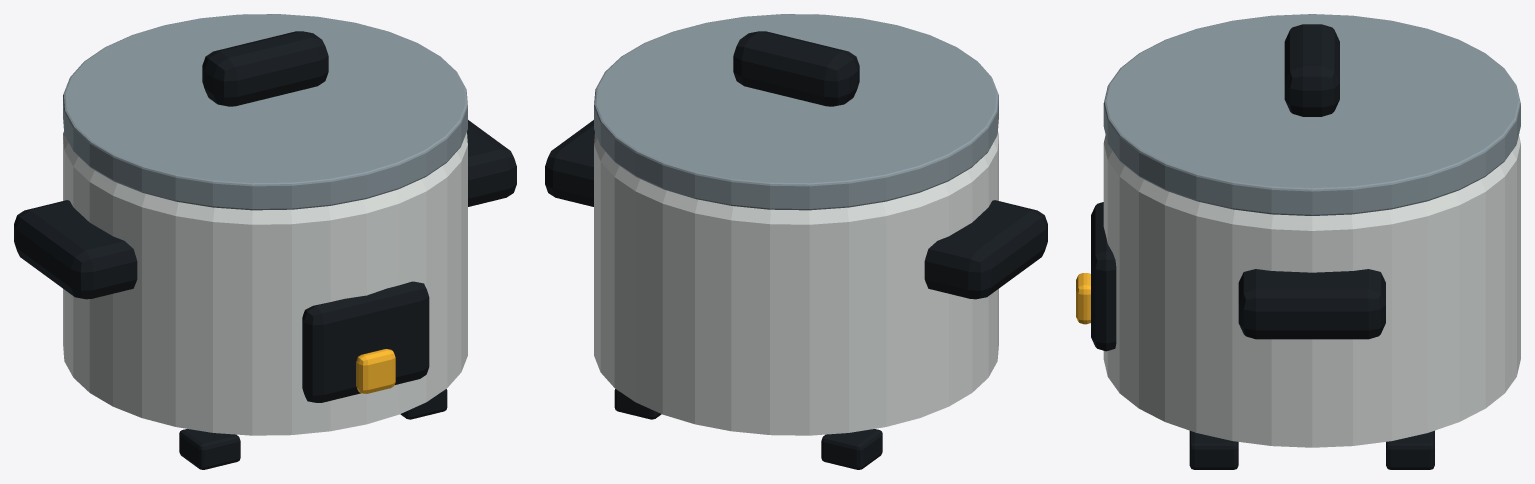
3 views of the same model, side by side, from view 1: azimuth 30°, elevation 25°; view 2: azimuth 150°, elevation 25°; view 3: azimuth 270°, elevation 25° (orthographic). The views are drawn at different scales.
Parts seen in each view (by area): view 1: BODY_Hollow, LID, CONTROL_Panel, SIDE_Handle, LID_Handle, SIDE_Handle.001, FOOT, CONTROL_Switch, FOOT.002; view 2: BODY_Hollow, LID, SIDE_Handle, LID_Handle, SIDE_Handle.001, FOOT.001, FOOT.003; view 3: BODY_Hollow, LID, SIDE_Handle.001, LID_Handle, CONTROL_Panel, FOOT.002, FOOT.003, CONTROL_Switch.
Boxes of the visible parts, bbox=[...] form: BODY_Hollow: bbox=[63, 132, 467, 435]; LID: bbox=[63, 14, 467, 210]; CONTROL_Panel: bbox=[302, 281, 429, 402]; SIDE_Handle: bbox=[14, 200, 137, 299]; LID_Handle: bbox=[202, 31, 328, 106]; SIDE_Handle.001: bbox=[467, 120, 516, 206]; FOOT: bbox=[179, 429, 240, 469]; CONTROL_Switch: bbox=[356, 349, 395, 393]; FOOT.002: bbox=[400, 389, 447, 419]; BODY_Hollow: bbox=[594, 132, 998, 435]; LID: bbox=[594, 14, 998, 210]; SIDE_Handle: bbox=[924, 200, 1047, 299]; LID_Handle: bbox=[733, 31, 859, 106]; SIDE_Handle.001: bbox=[545, 120, 594, 206]; FOOT.001: bbox=[821, 429, 882, 469]; FOOT.003: bbox=[614, 389, 661, 419]; BODY_Hollow: bbox=[1103, 135, 1520, 447]; LID: bbox=[1103, 14, 1520, 215]; SIDE_Handle.001: bbox=[1238, 269, 1385, 339]; LID_Handle: bbox=[1284, 24, 1339, 116]; CONTROL_Panel: bbox=[1091, 202, 1116, 351]; FOOT.002: bbox=[1189, 431, 1238, 469]; FOOT.003: bbox=[1386, 430, 1434, 469]; CONTROL_Switch: bbox=[1076, 273, 1090, 324].
Size of the model in its own units: 0.43 by 0.3275 by 0.3625.
